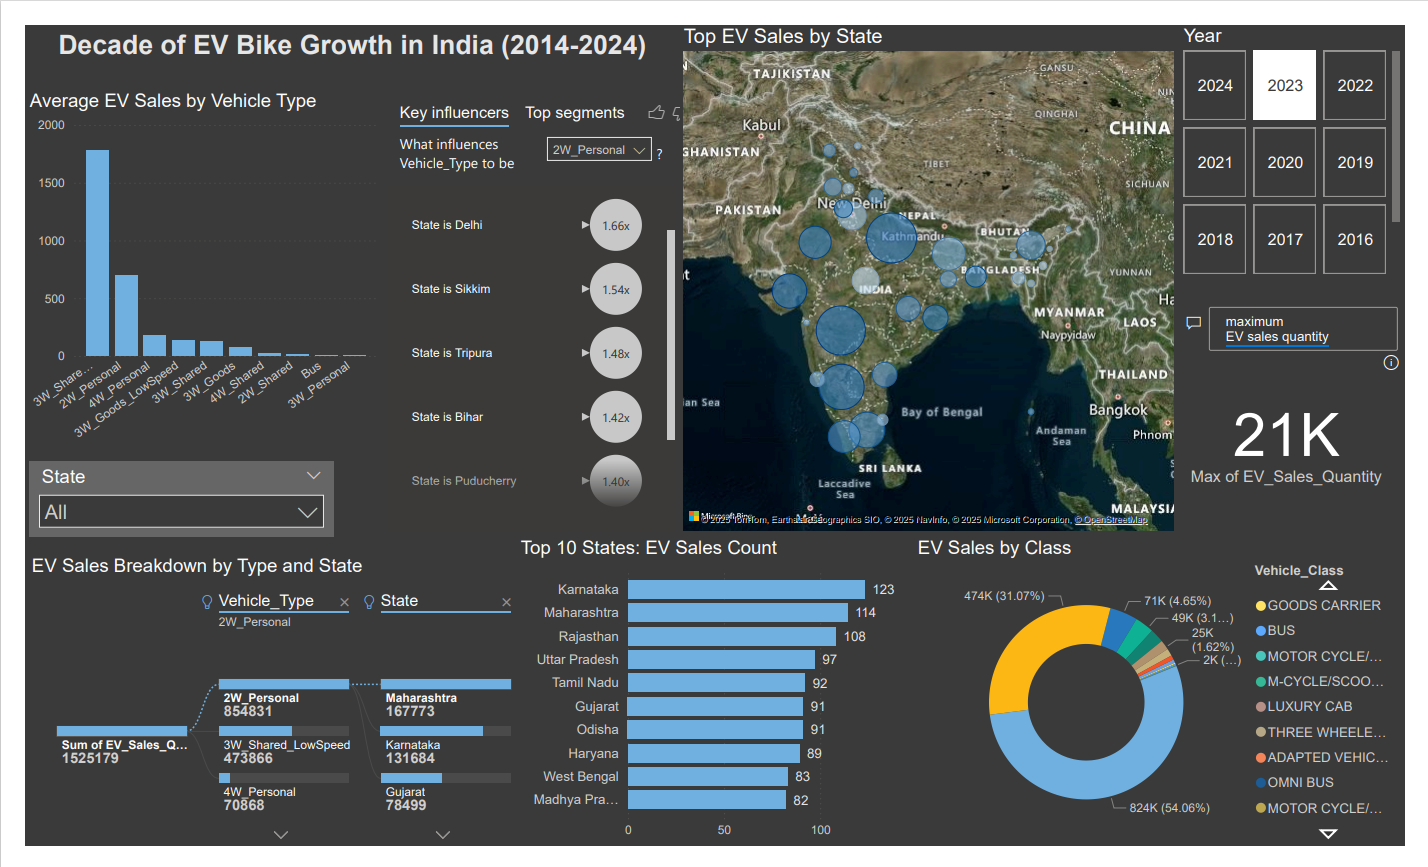

What the dashboard file says about the page in this screenshot:
{"tool":"powerbi","page":{"name":"Page 1","canvas":[1380,821],"ordinal":0},"visuals":[{"type":"lineClusteredColumnComboChart","title":"Average EV Sales by Vehicle Type","fields":{"Category":["Sheet1.Vehicle_Type"],"Y":["Avg(Sheet1.EV_Sales_Quantity)"]},"box":[0,65.1,358,371.3],"z":0},{"type":"map","title":"Top EV Sales by State","fields":{"Category":["Sheet1.State"],"Size":["Max(Sheet1.EV_Sales_Quantity)"]},"box":[654.3,0,500,511.4],"z":1000},{"type":"slicer","fields":{"Values":["Sheet1.State"]},"box":[4.4,436.4,304.8,75.5],"z":2000},{"type":"decompositionTreeVisual","title":"EV Sales Breakdown by Type and State","fields":{"ExplainBy":["Sheet1.Vehicle_Type","Sheet1.State"],"Analyze":["Sum(Sheet1.EV_Sales_Quantity)"]},"box":[1.7,530,495,291.7],"z":3000},{"type":"keyDriversVisual","fields":{"Target":["Sheet1.Vehicle_Type"],"ExplainBy":["Sheet1.State"]},"box":[358,65.1,297.4,446.8],"z":4000},{"type":"donutChart","title":"EV Sales by Class","fields":{"Category":["Sheet1.Vehicle_Class"],"Y":["Sum(Sheet1.EV_Sales_Quantity)"]},"box":[888.3,511.7,491.7,310],"z":5000},{"type":"textbox","box":[1.7,0,651.7,65],"z":6000},{"type":"barChart","title":"Top 10 States: EV Sales Count","fields":{"Category":["Sheet1.State"],"Y":["Count(Sheet1.EV_Sales_Quantity)"]},"box":[491.2,511.9,396.5,309.2],"z":7000},{"type":"advancedSlicerVisual","fields":{"Values":["Sheet1.Year"]},"box":[1154.3,0,225.7,255.7],"z":8000},{"type":"qnaVisual","box":[1153.3,256.7,226.7,241.7],"z":9000}]}

Visuals, with their boxes in screenshot pixels (x1, y1, x2, y2), scaled from the page's 1380x821 canvas onto the 1428x867 screenshot:
"Average EV Sales by Vehicle Type" lineClusteredColumnComboChart: {"left": 0, "top": 69, "right": 370, "bottom": 461}
"Top EV Sales by State" map: {"left": 677, "top": 0, "right": 1194, "bottom": 540}
slicer - Sheet1.State: {"left": 5, "top": 461, "right": 320, "bottom": 541}
"EV Sales Breakdown by Type and State" decompositionTreeVisual: {"left": 2, "top": 560, "right": 514, "bottom": 866}
keyDriversVisual - Sheet1.Vehicle_Type x Sheet1.State: {"left": 370, "top": 69, "right": 678, "bottom": 541}
"EV Sales by Class" donutChart: {"left": 919, "top": 540, "right": 1427, "bottom": 866}
textbox: {"left": 2, "top": 0, "right": 676, "bottom": 69}
"Top 10 States: EV Sales Count" barChart: {"left": 508, "top": 541, "right": 919, "bottom": 866}
advancedSlicerVisual - Sheet1.Year: {"left": 1194, "top": 0, "right": 1427, "bottom": 270}
qnaVisual: {"left": 1193, "top": 271, "right": 1427, "bottom": 526}
